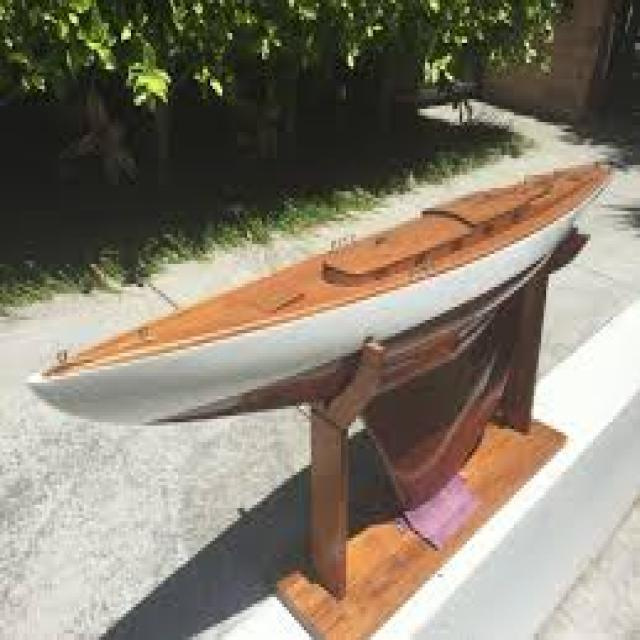ship2: (29, 164, 612, 427)
